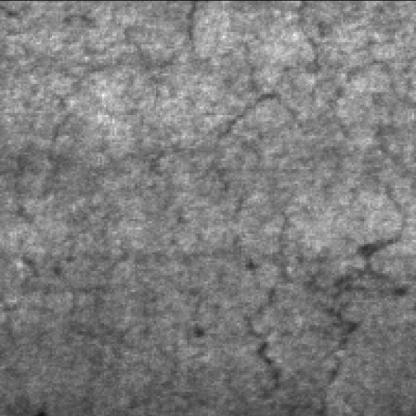crazing: (237, 185, 399, 410), (42, 4, 308, 141)
